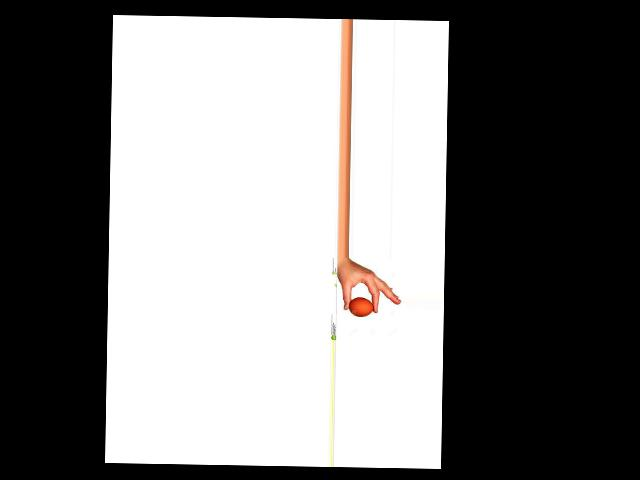egg: (348, 296, 373, 316)
